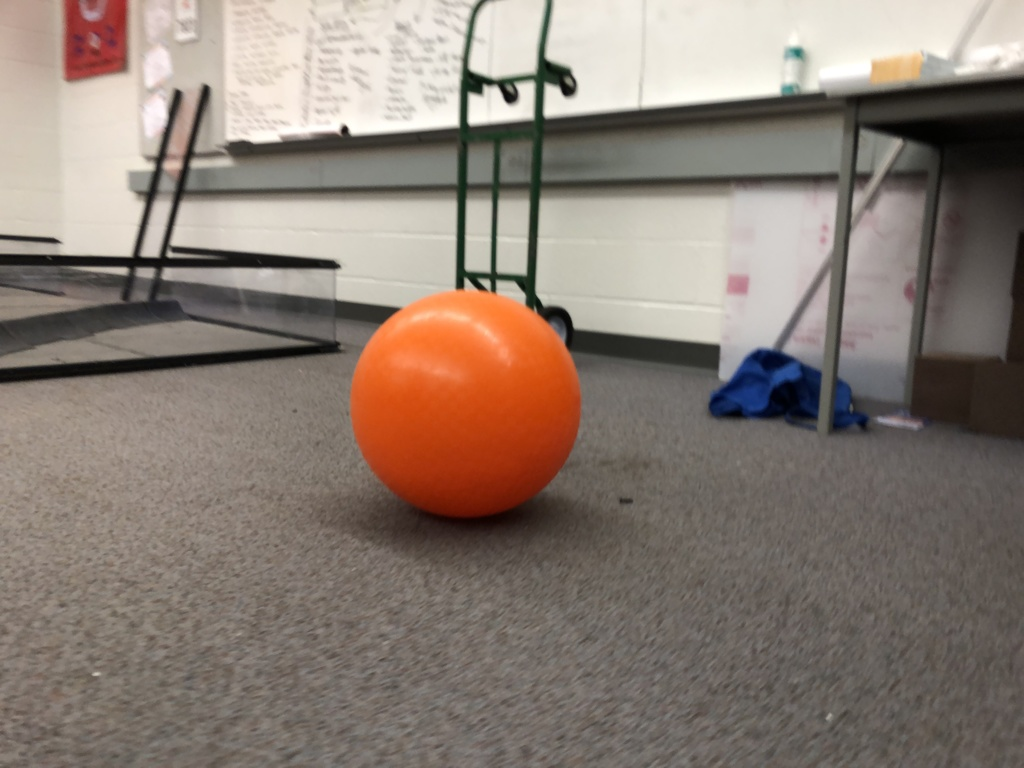cargo: (338, 283, 598, 527)
